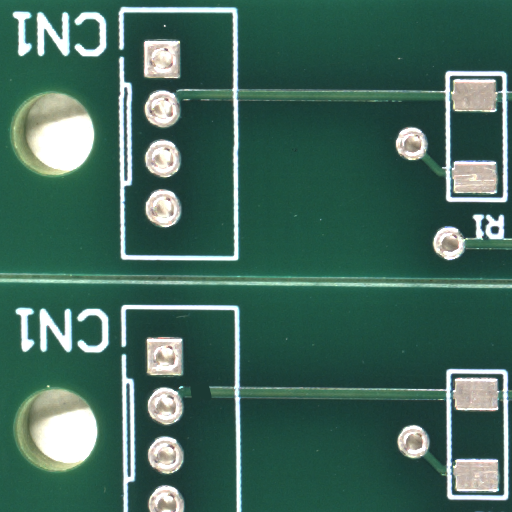Open_circuit: (201, 392, 224, 409)
